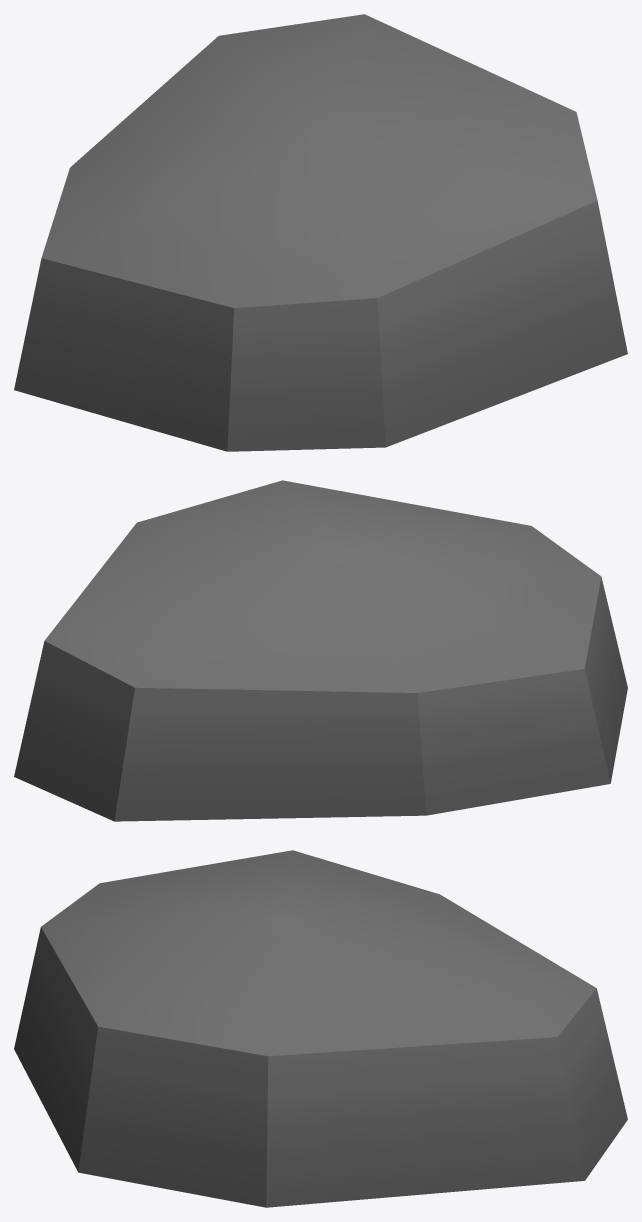
File: Rock_A_1.fbx
The picture shows the model from 3 angles, top to bottom: view 1: azimuth 30°, elevation 25°; view 2: azimuth 150°, elevation 25°; view 3: azimuth 270°, elevation 25°; orthographic projection. The views are drawn at different scales.
Visible parts, largest first — view 1: Rock_A_1; view 2: Rock_A_1; view 3: Rock_A_1.
Part boxes in pixels (x1,y1,x2,y2): Rock_A_1: [14, 14, 627, 451]; Rock_A_1: [14, 480, 627, 821]; Rock_A_1: [14, 850, 627, 1207].
Bounding box in the file's own units: 56.86 × 17.7 × 57.47.
